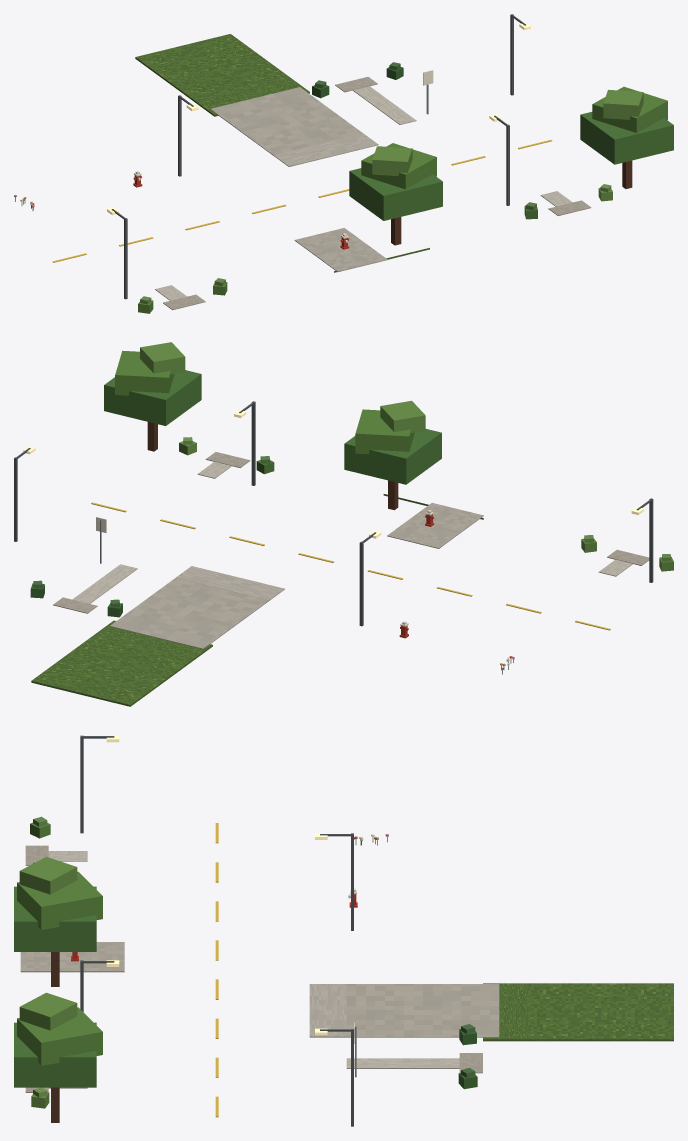
The model's file is structure.glb.
3 renders of one model, top to bottom at view 1: azimuth 30°, elevation 25°; view 2: azimuth 150°, elevation 25°; view 3: azimuth 270°, elevation 25°, orthographic. The views are drawn at different scales.
Parts seen in each view (by area): view 1: Box3, Box12, Box57, Box61, Box70, Box13, Box62, Box58, Box1, Box63, Box59, Box65; view 2: Box3, Box12, Box57, Box61, Box70, Box58, Box62, Box13, Box1, Box63, Box59, Box65; view 3: Box3, Box12, Box61, Box57, Box58, Box62, Box70, Box13, Box1, Box63, Box59, Box65.
Boxes of the visible parts, <box> form: Box3: <box>135,34,290,102</box>; Box12: <box>210,87,362,155</box>; Box57: <box>349,168,442,220</box>; Box61: <box>580,112,673,164</box>; Box70: <box>294,228,387,271</box>; Box13: <box>273,133,378,166</box>; Box62: <box>592,86,667,132</box>; Box58: <box>361,143,436,189</box>; Box1: <box>195,78,309,116</box>; Box63: <box>603,89,643,119</box>; Box59: <box>372,146,412,176</box>; Box65: <box>353,86,416,124</box>; Box3: <box>31,635,193,706</box>; Box12: <box>110,578,268,648</box>; Box57: <box>344,429,441,484</box>; Box61: <box>104,370,201,425</box>; Box70: <box>387,503,483,548</box>; Box58: <box>355,409,414,454</box>; Box62: <box>115,350,174,395</box>; Box13: <box>176,566,284,600</box>; Box1: <box>94,620,212,660</box>; Box63: <box>140,342,185,374</box>; Box59: <box>380,400,425,432</box>; Box65: <box>72,564,137,603</box>; Box3: <box>528,983,673,1041</box>; Box12: <box>346,984,499,1037</box>; Box61: <box>14,1022,96,1087</box>; Box57: <box>14,886,96,951</box>; Box58: <box>17,871,102,929</box>; Box62: <box>17,1007,102,1065</box>; Box70: <box>20,942,124,972</box>; Box13: <box>309,984,346,1037</box>; Box1: <box>483,983,528,1041</box>; Box63: <box>19,992,77,1030</box>; Box59: <box>19,856,77,894</box>; Box65: <box>346,1058,459,1068</box>.
Size of the model in its own units: 32.62 by 5.48 by 28.54.
23 materials, 5 textured.
